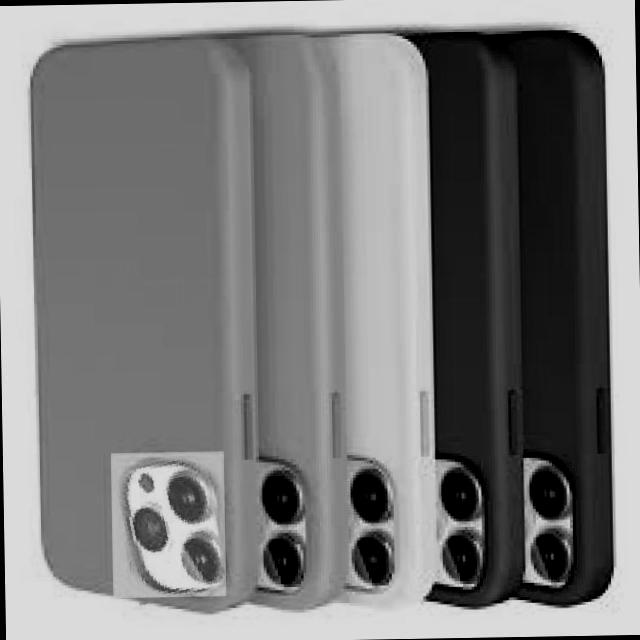lens: (118, 469, 222, 589), (519, 461, 578, 591), (260, 466, 308, 596), (433, 461, 482, 586), (348, 460, 394, 593)
phone: (22, 39, 254, 619), (338, 32, 438, 608), (523, 22, 619, 608), (255, 26, 343, 622), (436, 21, 524, 616)
